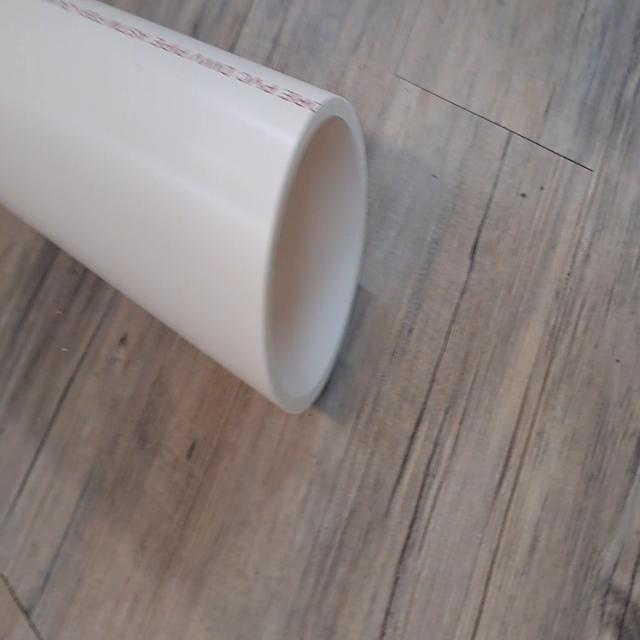CORAL: (0, 0, 372, 437)
